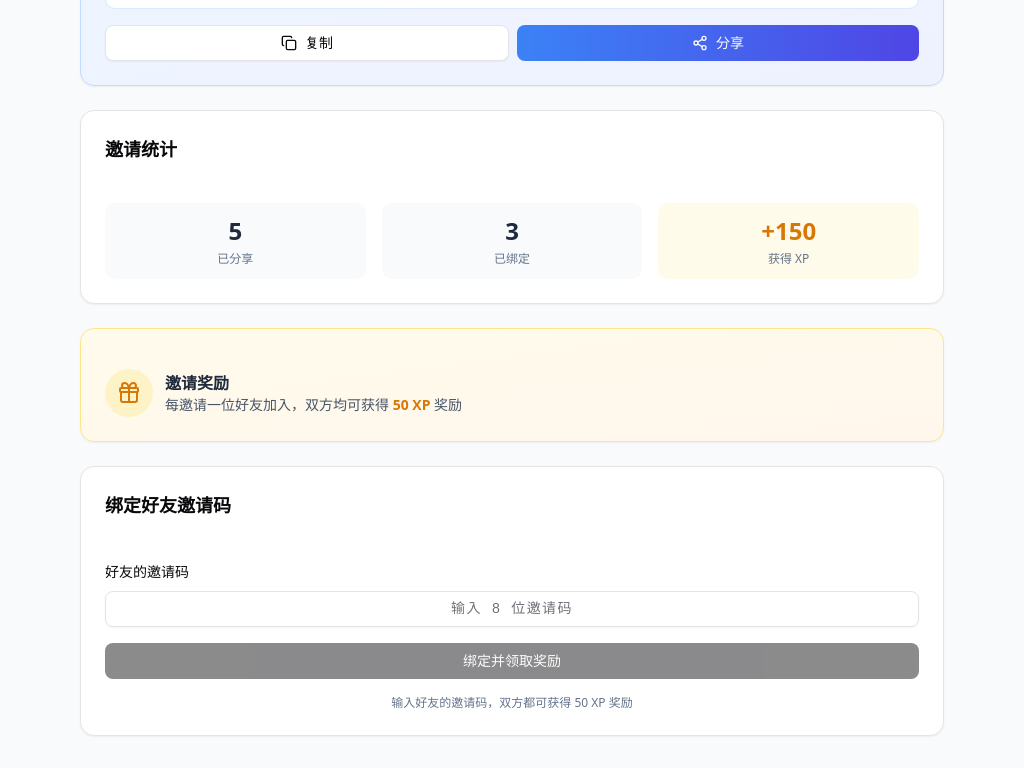
Test: InviteFriendsPanel › Claim invite code › limits input to 8 characters
(page scrolled)
Step 1. Type "123456789012" into the field labelled "好友的邀请码" → [512, 609], box x1=105 y1=591 x2=919 y2=627
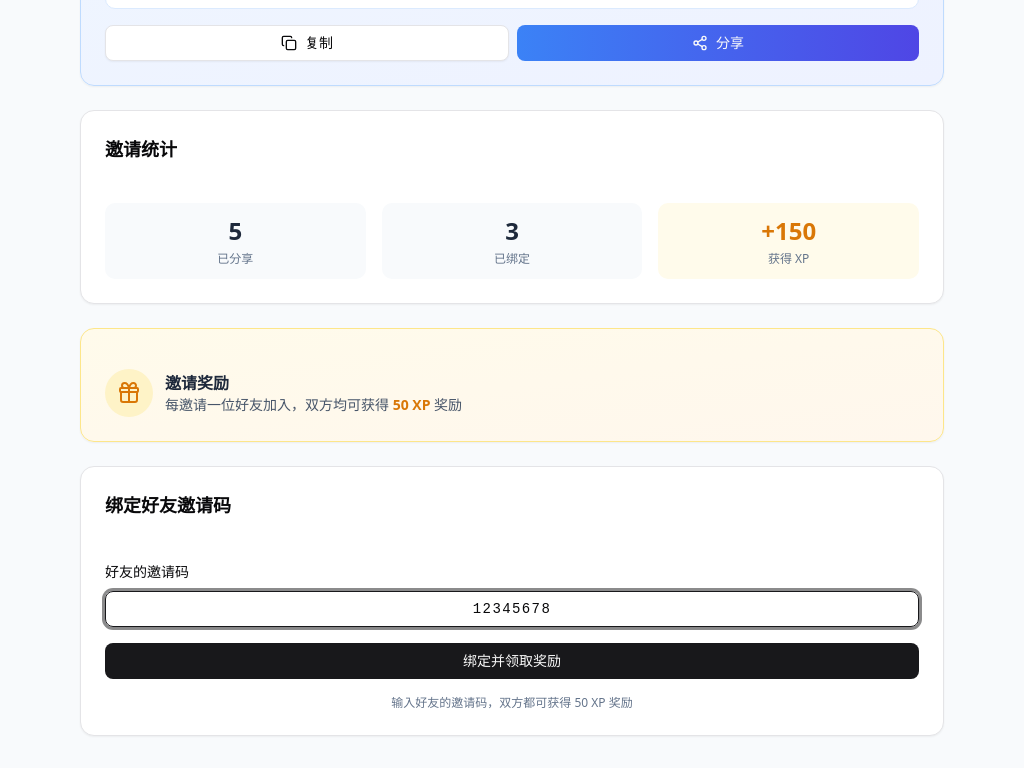
Expected: the field labelled "好友的邀请码" holds "12345678", x1=105 y1=591 x2=919 y2=627
